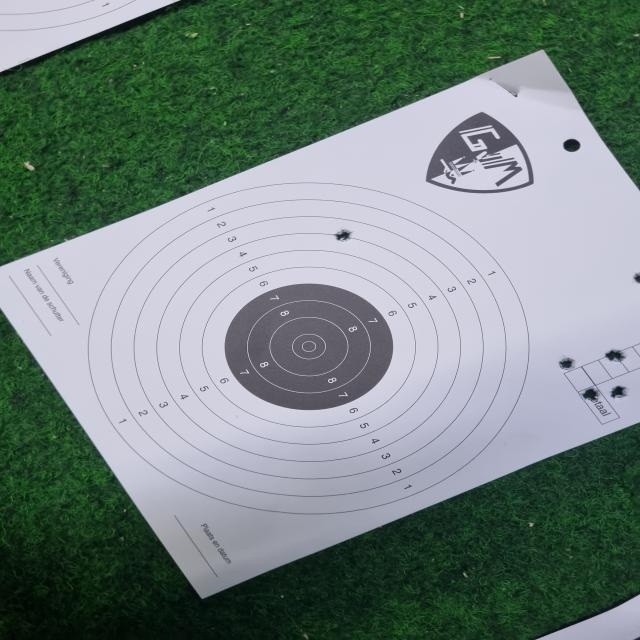0: (606, 348, 626, 363), (580, 387, 599, 401), (610, 385, 627, 400), (557, 357, 574, 370)
4: (334, 229, 351, 242)
Target: (88, 182, 531, 516)
black_contour: (225, 284, 394, 411)
